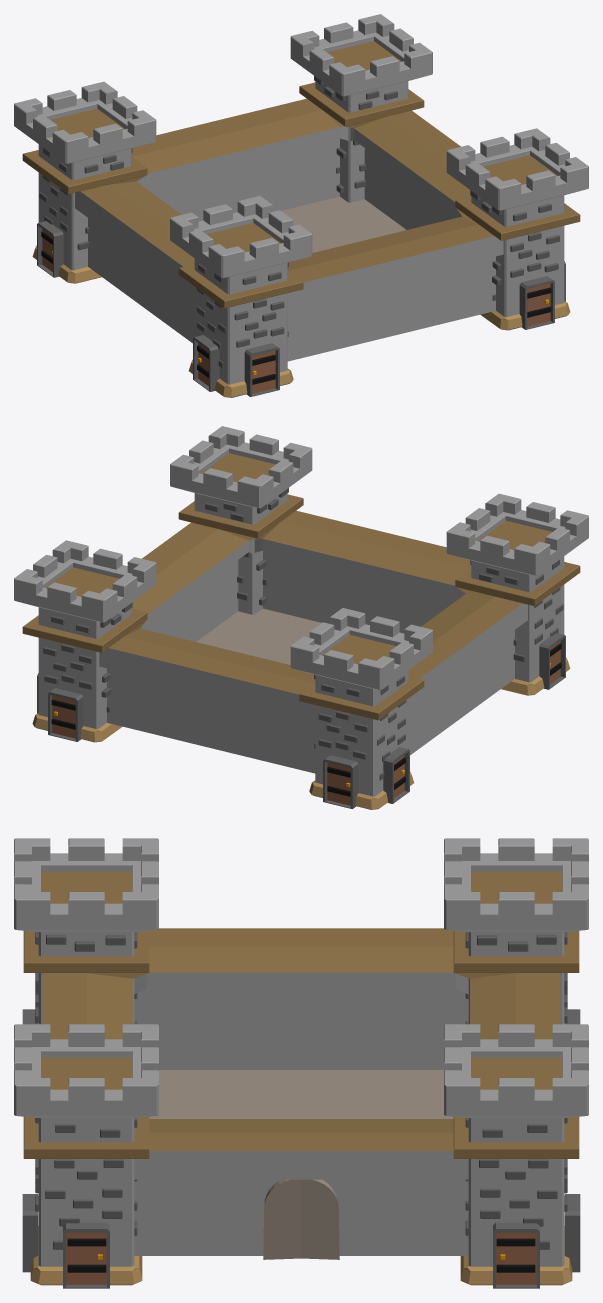
The picture shows the model from 3 angles, top to bottom: view 1: azimuth 30°, elevation 25°; view 2: azimuth 150°, elevation 25°; view 3: azimuth 270°, elevation 25°; orthographic projection. The views are drawn at different scales.
Parts seen in each view (by area): view 1: Tower; view 2: Tower; view 3: Tower.
Part boxes in pixels (box(x1,y1,x2,y2)): Tower: box(14, 14, 588, 397); Tower: box(14, 426, 588, 809); Tower: box(14, 838, 588, 1288).
Bounding box in the file's own units: 213 × 83.66 × 209.
2 materials, 1 textured.
